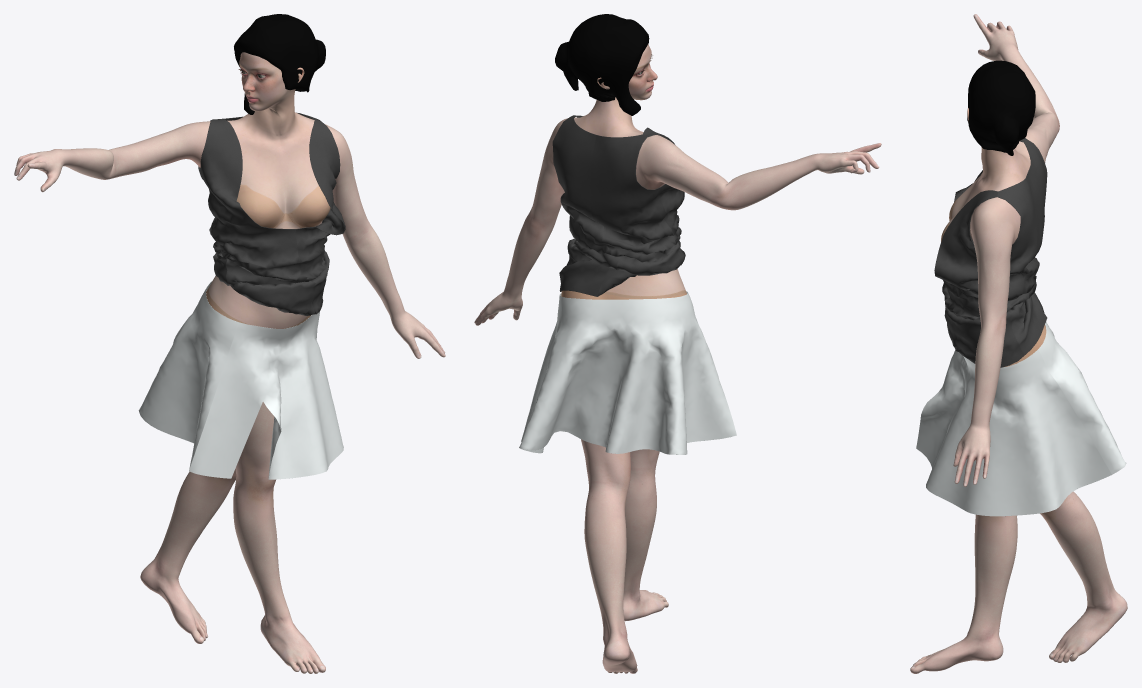
File: Dramatic.obj
3 renders of one model, left to right at view 1: azimuth 30°, elevation 25°; view 2: azimuth 150°, elevation 25°; view 3: azimuth 270°, elevation 25°, orthographic. The views are drawn at different scales.
Size of the model in its own units: 1226 by 1775 by 569.
